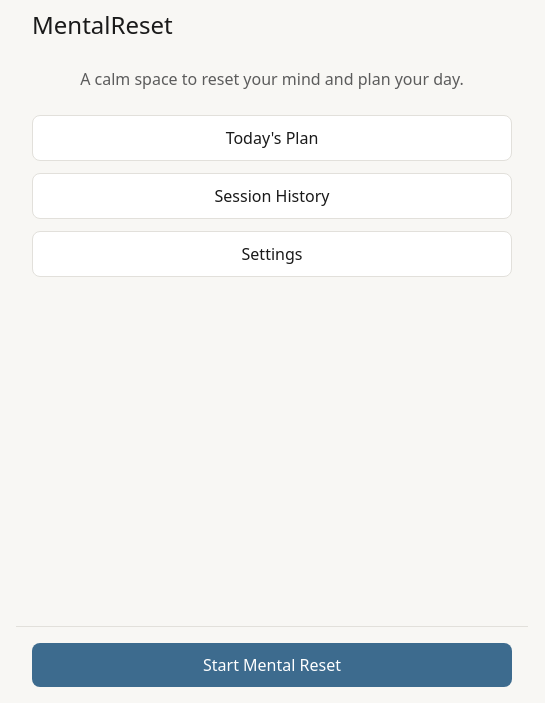
it: start session with Save for Later pull-in › skips review and goes directly to Brain Dump when no LATER tasks exist
Step 1. Click the button "Start Mental Reset" → (272, 665), box [32, 643, 512, 687]
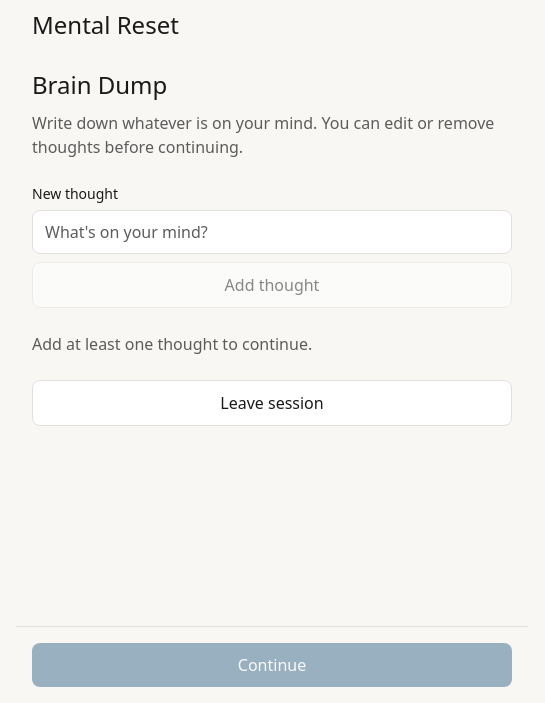
Now the heading "Brain Dump" is shown, box [32, 68, 167, 101]
